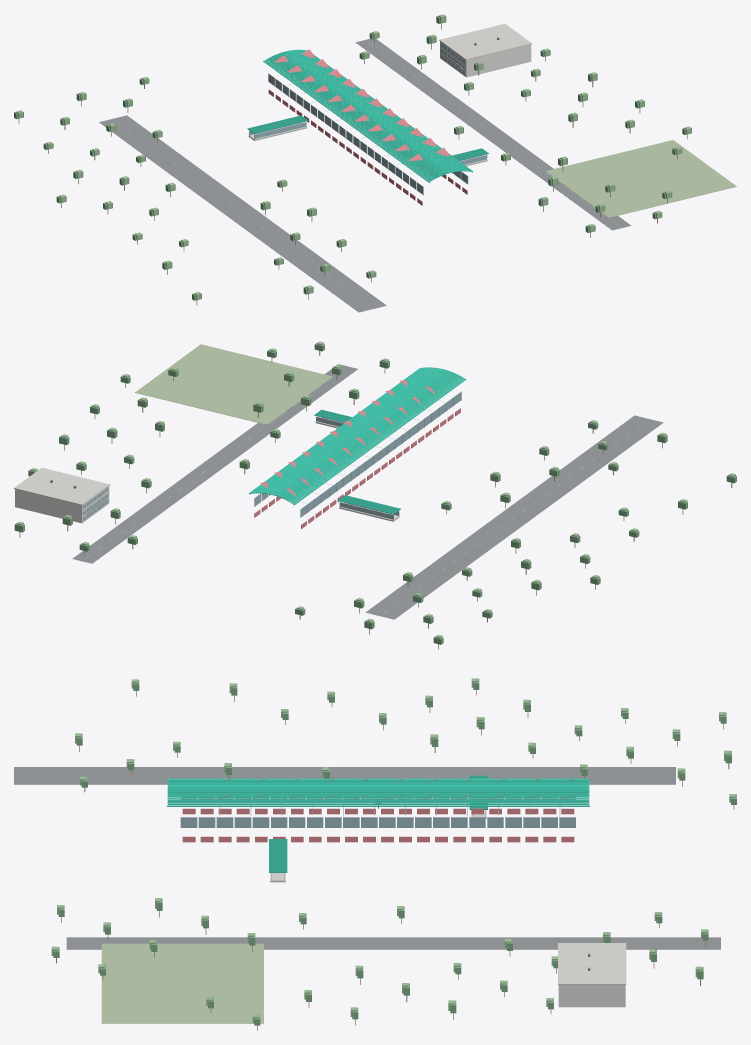
3 renders of one model, top to bottom at view 1: azimuth 30°, elevation 25°; view 2: azimuth 150°, elevation 25°; view 3: azimuth 270°, elevation 25°, orthographic. The views are drawn at different scales.
Parts seen in each view (by area): view 1: Station 9 photo-informed architecture and surroundings; view 2: Station 9 photo-informed architecture and surroundings; view 3: Station 9 photo-informed architecture and surroundings.
Part boxes in pixels (box(x1,y1,x2,y2)): Station 9 photo-informed architecture and surroundings: box(14, 14, 736, 312); Station 9 photo-informed architecture and surroundings: box(14, 341, 736, 649); Station 9 photo-informed architecture and surroundings: box(14, 678, 736, 1030).
Bounding box in the file's own units: 312 × 33.32 × 281.
